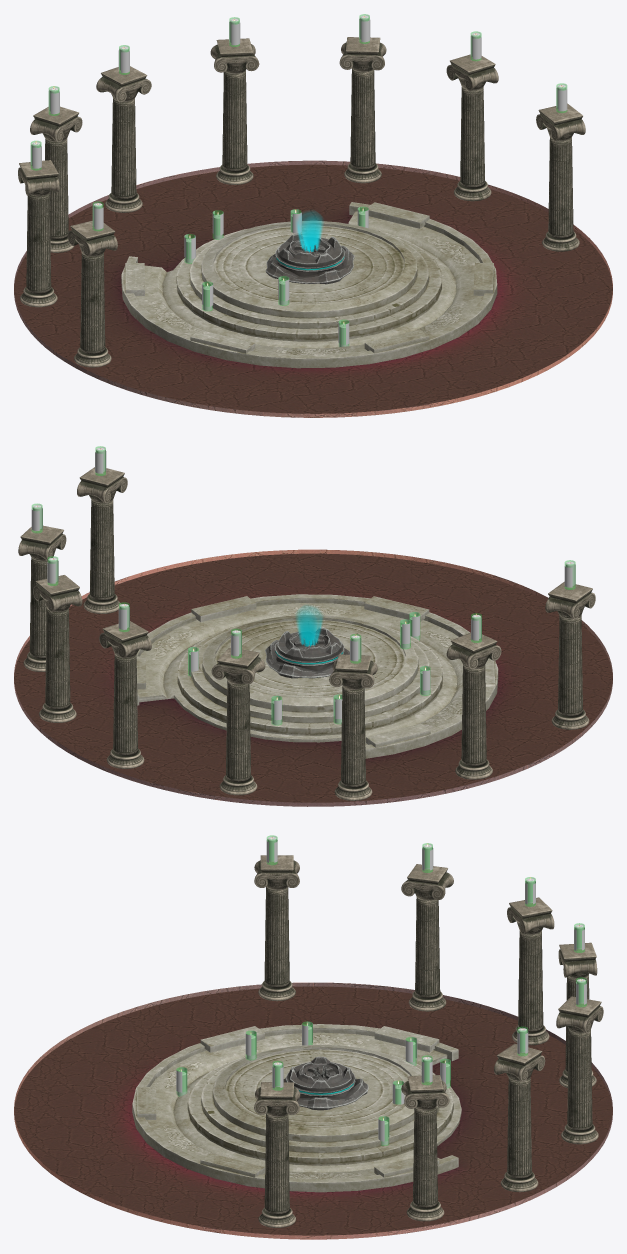
File: altar80s.glb
The picture shows the model from 3 angles, top to bottom: view 1: azimuth 30°, elevation 25°; view 2: azimuth 150°, elevation 25°; view 3: azimuth 270°, elevation 25°; orthographic projection.
Parts seen in each view (by area): view 1: Floor, Floor2.002, Ionic_Column, Ionic_Column__0.003, Ionic_Column__0.004, Ionic_Column__0.001, Ionic_Column__0.002, Ionic_Column__0.007, Ionic_Column__0.006, Object_2.001, Ionic_Column__0.005, Object_3; view 2: Floor, Floor2.002, Ionic_Column__0.006, Ionic_Column__0.004, Ionic_Column__0.005, Ionic_Column__0.007, Ionic_Column, Ionic_Column__0.003, Ionic_Column__0.002, Object_2.001, Ionic_Column__0.001, Object_3; view 3: Floor, Floor2.002, Ionic_Column__0.006, Ionic_Column__0.007, Ionic_Column__0.002, Ionic_Column__0.001, Ionic_Column__0.003, Ionic_Column, Ionic_Column__0.005, Object_2.001, Ionic_Column__0.004.
Part boxes in pixels (x1,y1,x2,y2): Floor: (14, 160, 612, 417); Floor2.002: (121, 202, 497, 368); Ionic_Column: (339, 37, 386, 183); Ionic_Column__0.003: (210, 38, 259, 184); Ionic_Column__0.004: (96, 66, 151, 212); Ionic_Column__0.001: (446, 54, 498, 201); Ionic_Column__0.002: (536, 103, 585, 251); Ionic_Column__0.007: (67, 220, 117, 367); Ionic_Column__0.006: (18, 160, 59, 307); Object_2.001: (265, 233, 354, 284); Ionic_Column__0.005: (30, 106, 82, 252); Object_3: (297, 212, 322, 252); Floor: (14, 549, 612, 806); Floor2.002: (136, 594, 498, 758); Ionic_Column__0.006: (446, 632, 501, 779); Ionic_Column__0.004: (211, 647, 265, 795); Ionic_Column__0.005: (329, 654, 377, 800); Ionic_Column__0.007: (545, 581, 595, 729); Ionic_Column: (33, 575, 82, 722); Ionic_Column__0.003: (99, 621, 151, 768); Ionic_Column__0.002: (77, 467, 127, 613); Object_2.001: (265, 627, 349, 678); Ionic_Column__0.001: (18, 525, 66, 671); Object_3: (297, 606, 322, 646); Floor: (14, 982, 612, 1239); Floor2.002: (132, 1024, 461, 1192); Ionic_Column__0.006: (401, 864, 453, 1011); Ionic_Column__0.007: (254, 855, 299, 1001); Ionic_Column__0.002: (254, 1082, 300, 1227); Ionic_Column__0.001: (401, 1075, 449, 1221); Ionic_Column__0.003: (556, 996, 603, 1144); Ionic_Column: (494, 1043, 545, 1192); Ionic_Column__0.005: (507, 897, 554, 1045); Object_2.001: (283, 1056, 368, 1110); Ionic_Column__0.004: (558, 942, 597, 1088).
Bounding box in the file's own units: 60 × 19.37 × 60.
Materials: 11 (6 with a texture image).
